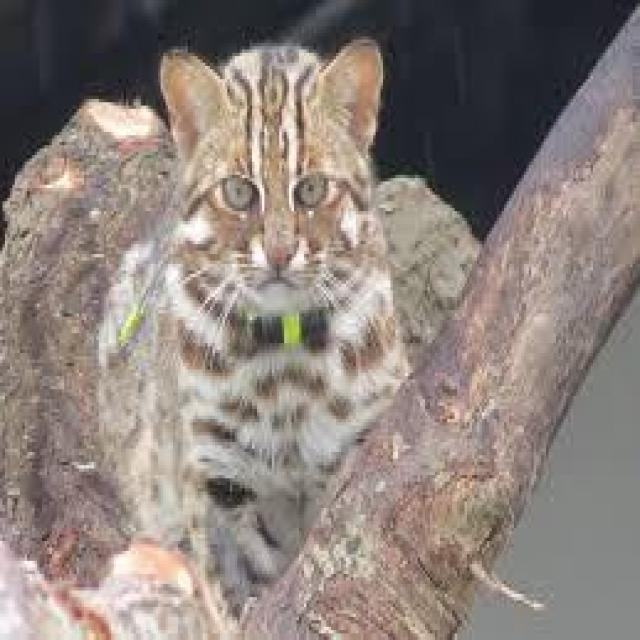leopard: (100, 53, 426, 513)
